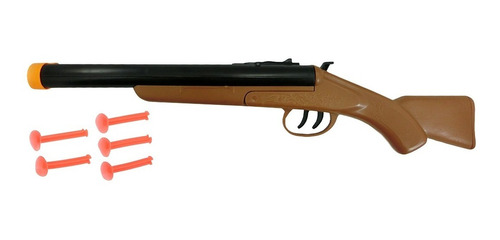Arma Falsa: (25, 53, 483, 155)
